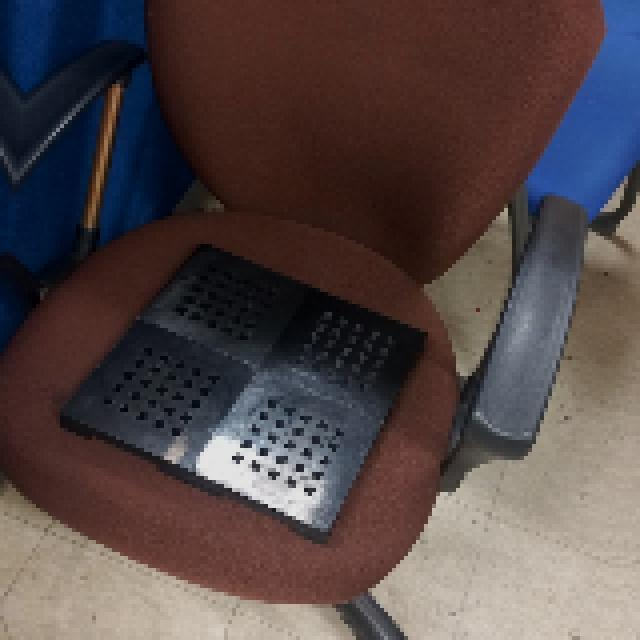pallet: (49, 232, 437, 532)
